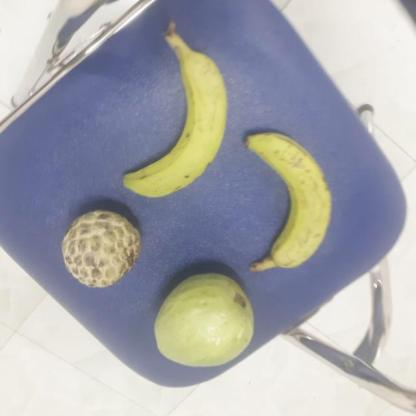annona: (58, 210, 140, 289)
banana: (120, 46, 226, 196), (243, 134, 332, 274)
guava: (153, 270, 254, 371)
